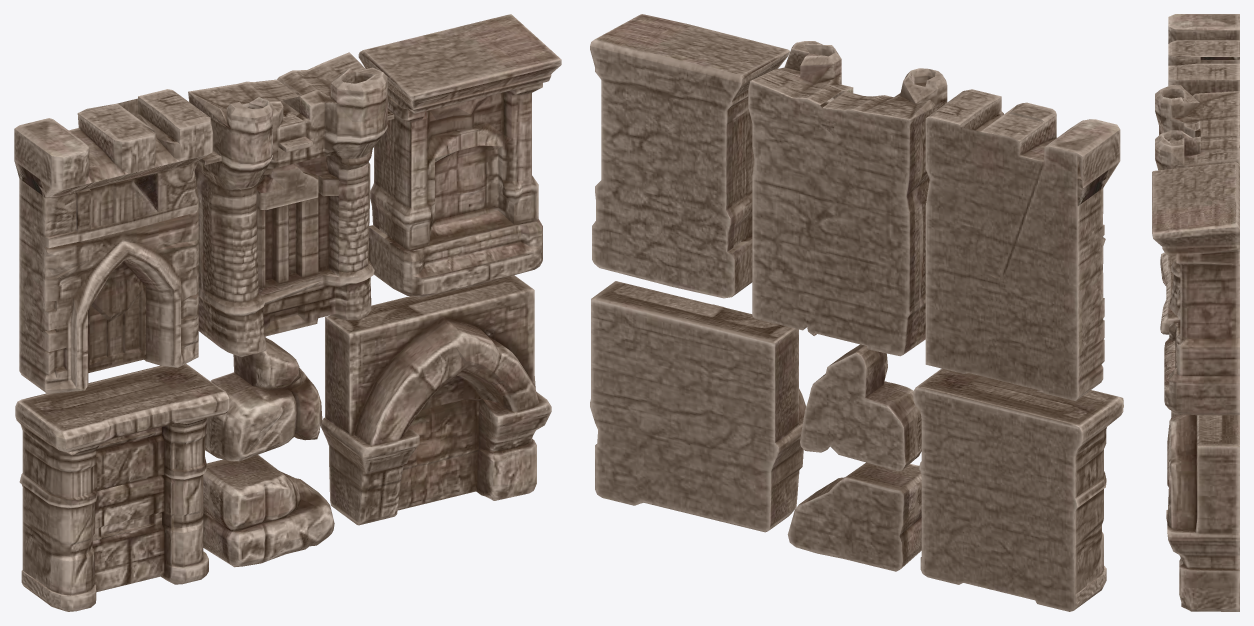
Rendered from ruin_kit.glb.
3 views of the same model, side by side, from view 1: azimuth 30°, elevation 25°; view 2: azimuth 150°, elevation 25°; view 3: azimuth 270°, elevation 25° (orthographic). The views are drawn at different scales.
Size of the model in its own units: 1.9 by 1.72 by 0.3405.
1 material, 1 textured.
